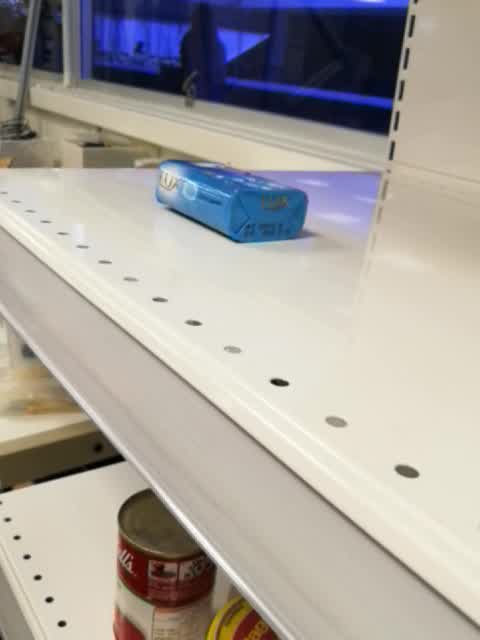soap: (155, 157, 309, 245)
